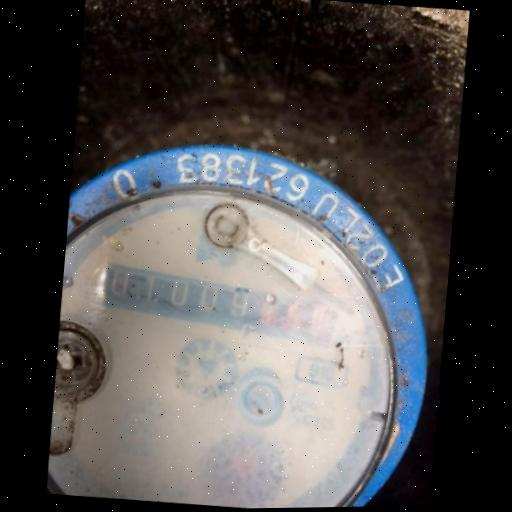0: (102, 263, 136, 304), (192, 280, 228, 318), (162, 274, 197, 312)
1: (133, 269, 167, 308)
3: (249, 295, 283, 331)
6: (278, 300, 308, 335)
9: (221, 284, 255, 324)
border_water_meter_number: (95, 257, 341, 353)
